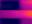Hotspot: (28, 10, 31, 16)
